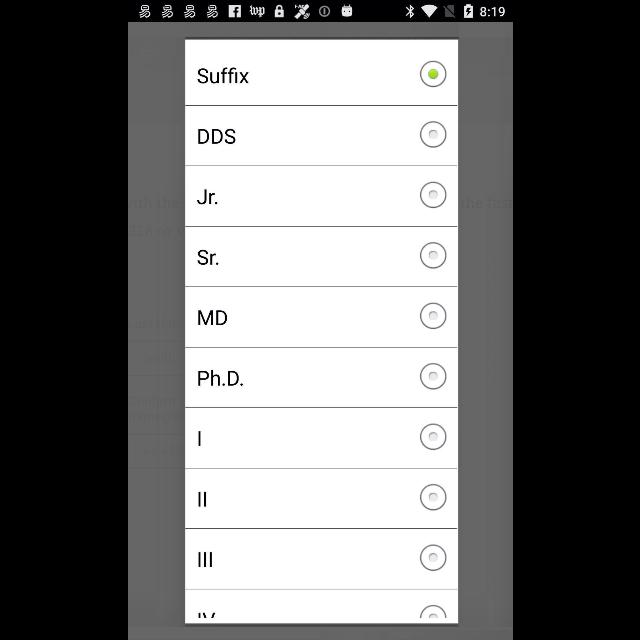checkbox: (418, 544, 446, 572), (418, 243, 446, 269), (420, 302, 446, 330), (418, 363, 446, 389), (420, 61, 446, 88), (419, 182, 446, 208), (420, 424, 446, 451), (420, 484, 446, 511), (420, 122, 446, 148)
panel: (183, 39, 459, 625)
text: (196, 68, 248, 84), (198, 370, 242, 386), (198, 130, 235, 144), (198, 310, 226, 326), (196, 250, 218, 264), (197, 190, 217, 204), (198, 553, 212, 567), (198, 492, 206, 506), (198, 612, 215, 618), (198, 432, 200, 446)
uppertaskbar: (128, 1, 512, 23)
